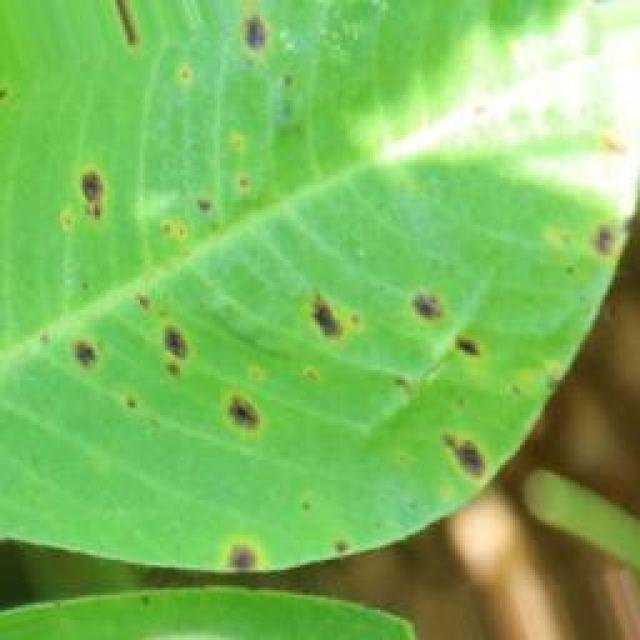Sigatoka: (390, 270, 498, 368), (538, 194, 619, 283), (401, 394, 486, 476), (189, 365, 261, 442), (54, 156, 124, 234), (213, 15, 294, 79), (305, 268, 356, 358), (151, 181, 233, 229), (220, 114, 260, 198), (217, 532, 294, 572), (150, 312, 199, 368), (93, 0, 145, 50), (61, 325, 108, 377)
